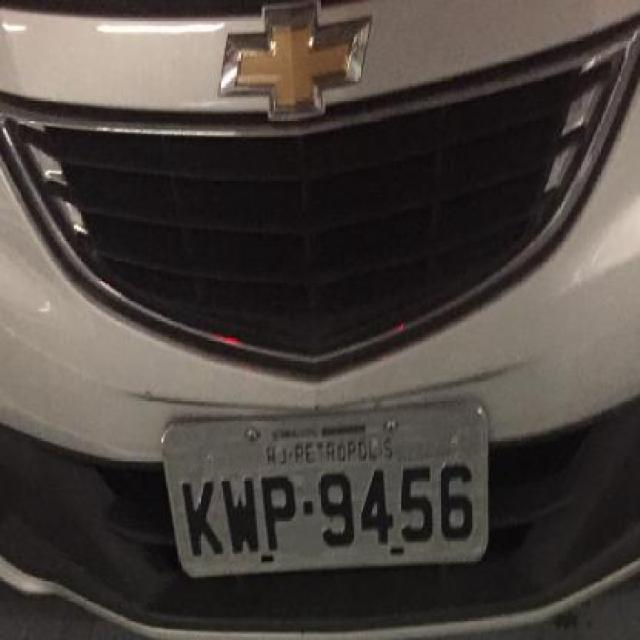old_plate: (155, 387, 497, 588)
